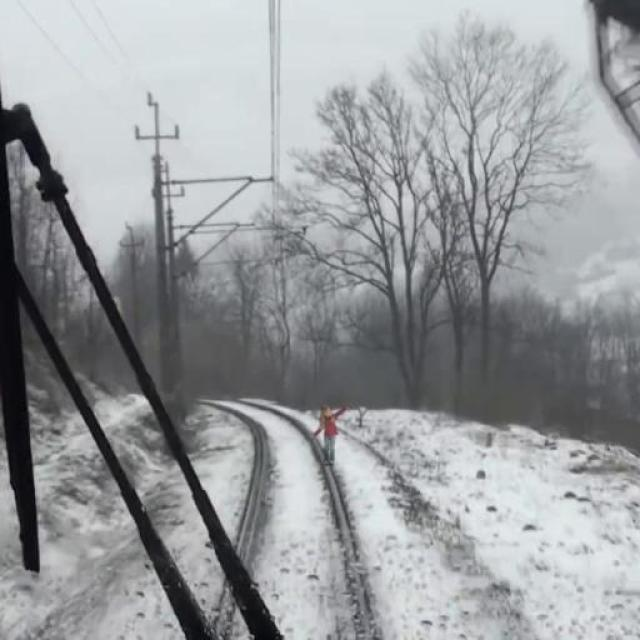people: (310, 396, 350, 470)
